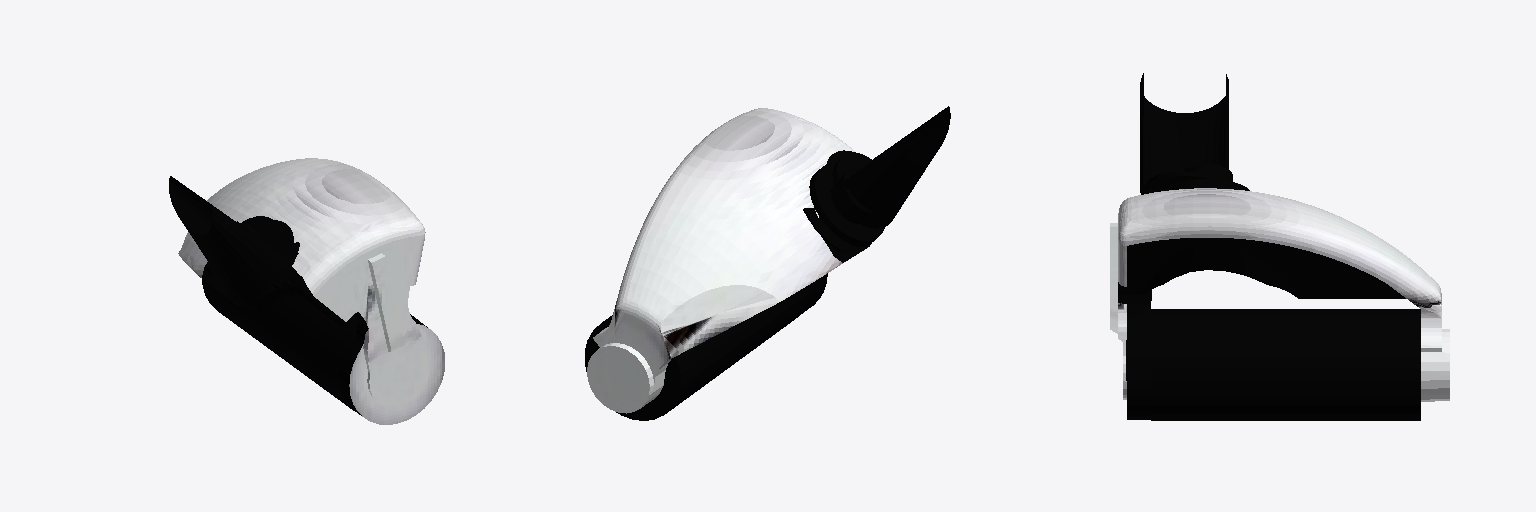
3 renders of one model, left to right at view 1: azimuth 30°, elevation 25°; view 2: azimuth 150°, elevation 25°; view 3: azimuth 270°, elevation 25°, orthographic.
Parts seen in each view (by area): view 1: Hanche_Chest.018; view 2: Hanche_Chest.018; view 3: Hanche_Chest.018.
Part boxes in pixels (x1,y1,x2,y2): Hanche_Chest.018: (169,158,444,424); Hanche_Chest.018: (585,106,950,420); Hanche_Chest.018: (1110,73,1449,420).
Bounding box in the file's own units: 0.6355 × 0.6889 × 0.828.
Materials: 2 (1 with a texture image).